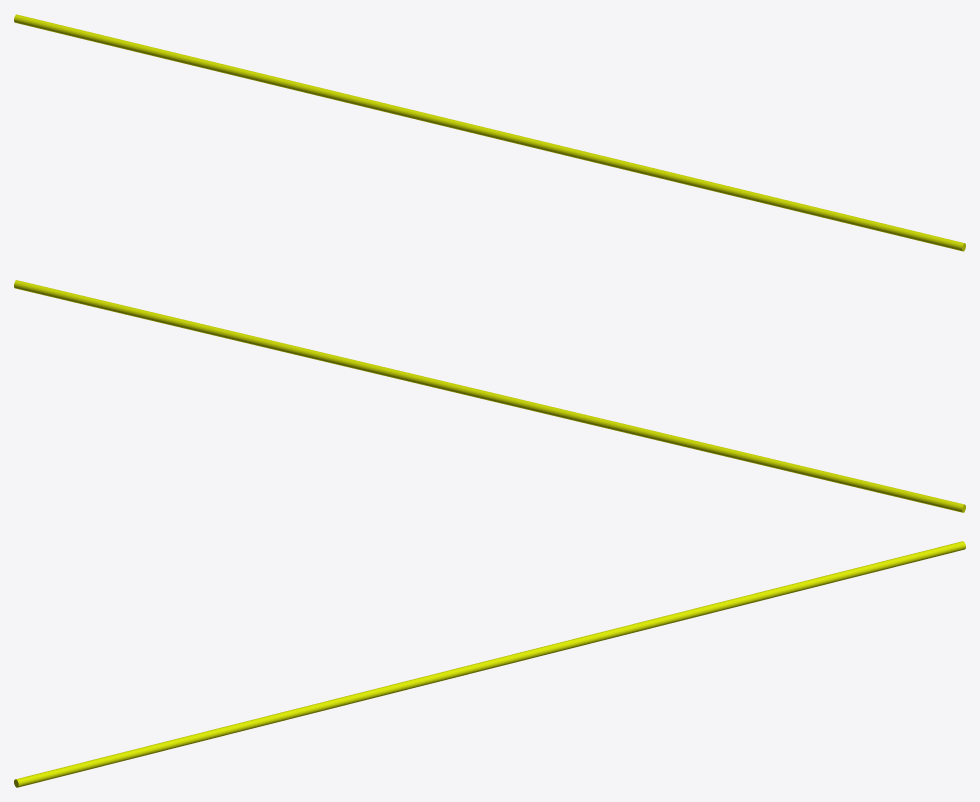
The picture shows the model from 3 angles, top to bottom: view 1: azimuth 30°, elevation 25°; view 2: azimuth 210°, elevation 25°; view 3: azimuth 270°, elevation 25°; orthographic projection.
Parts seen in each view (by area): view 1: Циліндр.001; view 2: Циліндр.001; view 3: Циліндр.001.
Part boxes in pixels (x1,y1,x2,y2): Циліндр.001: (14, 14, 965, 251); Циліндр.001: (14, 280, 965, 512); Циліндр.001: (14, 541, 965, 787).
Size of the model in its own units: 7.46 by 0.1456 by 12.57.
